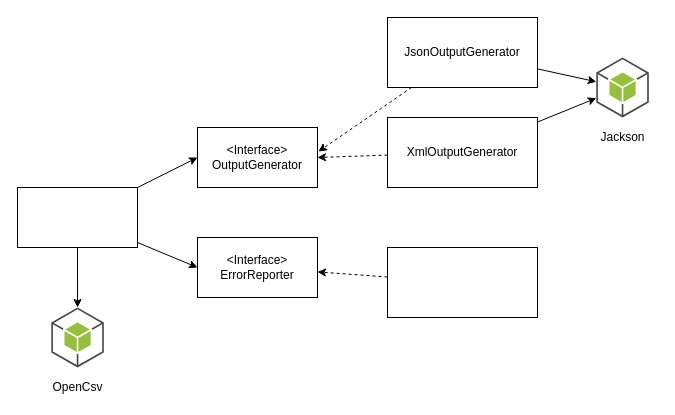
Image size: 675x415. Some labels were removed from this diagram. The box of each missing label's shape, as (x1, y1, x2, y2) in pixels:
CsvProcesor: (16, 186, 138, 248)
TxtErrorReporter: (386, 246, 538, 318)
